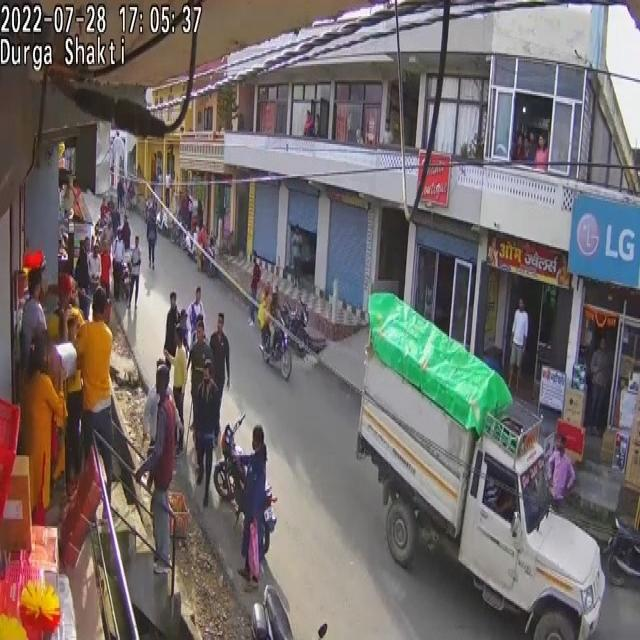fight: (0, 390, 76, 639), (74, 290, 123, 511), (23, 345, 65, 525), (57, 297, 85, 492)
non-fight: (132, 362, 178, 575), (234, 425, 267, 582), (191, 358, 220, 504), (209, 314, 230, 428), (589, 337, 610, 434), (508, 298, 529, 388), (258, 284, 278, 355), (125, 237, 141, 312), (164, 292, 180, 366), (188, 287, 205, 342), (249, 256, 262, 324), (146, 210, 156, 269), (117, 177, 125, 210)
